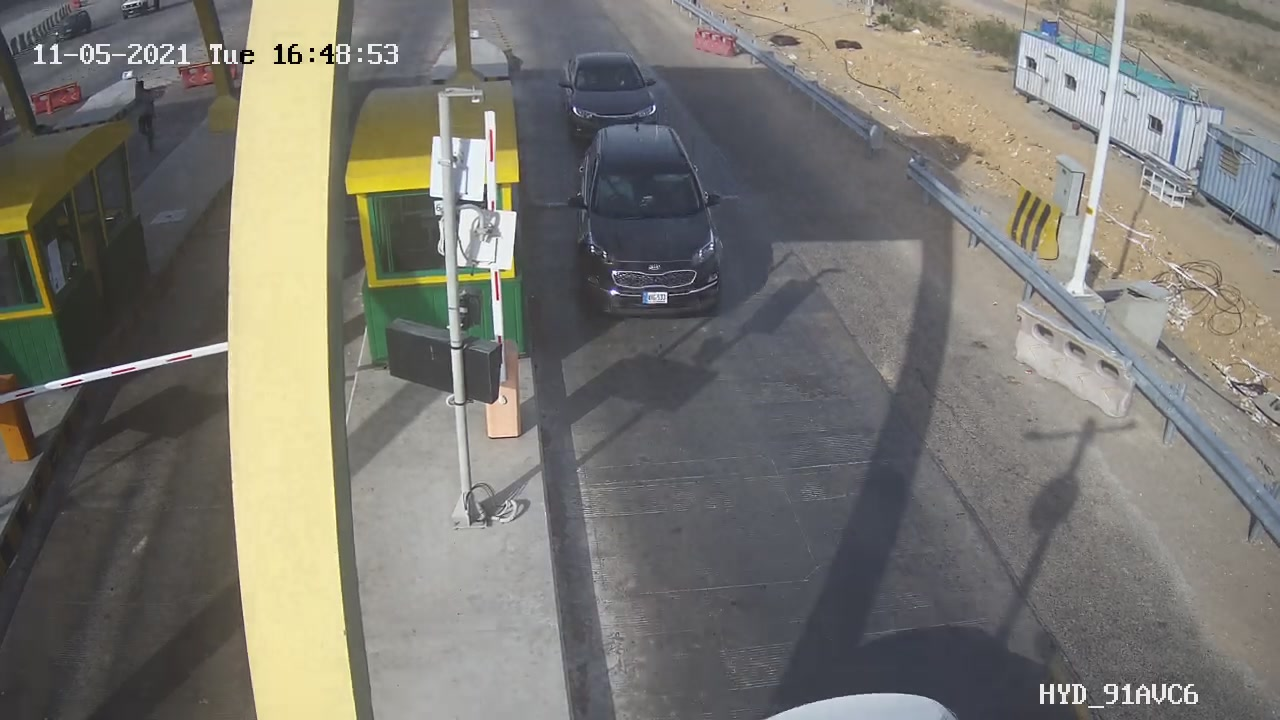F1: (556, 113, 755, 334)
